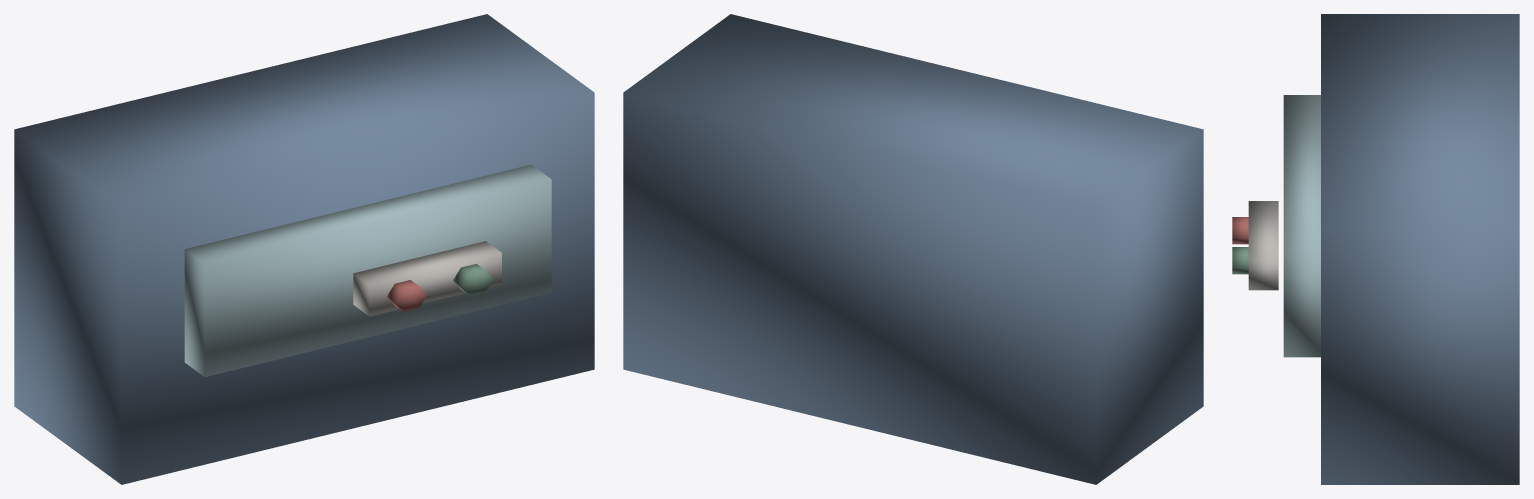
The model's file is price_checker__squat.glb.
3 views of the same model, side by side, from view 1: azimuth 30°, elevation 25°; view 2: azimuth 150°, elevation 25°; view 3: azimuth 270°, elevation 25° (orthographic). The views are drawn at different scales.
Parts seen in each view (by area): view 1: world; view 2: world; view 3: world.
Part boxes in pixels (bbox=[...]): world: bbox=[14, 14, 594, 484]; world: bbox=[623, 14, 1203, 484]; world: bbox=[1232, 14, 1519, 484].
Size of the model in its own units: 0.33 by 0.1848 by 0.1874.
